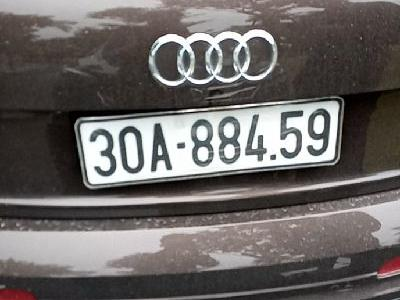lisence: (74, 96, 345, 190)
